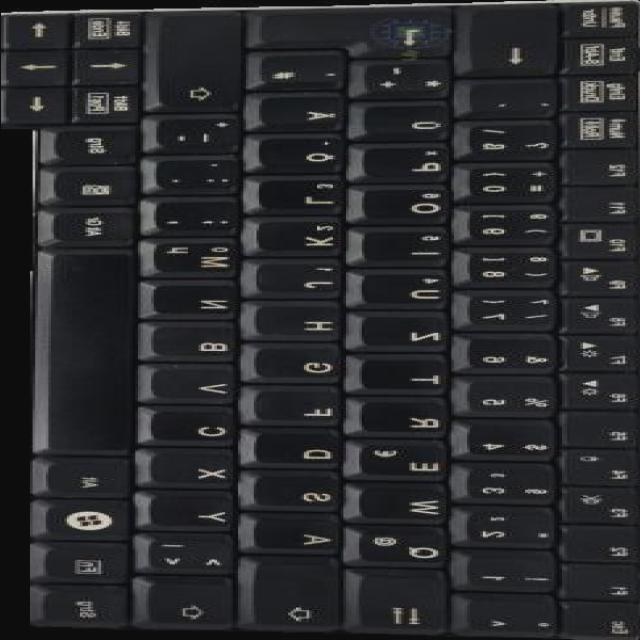0: (459, 167, 567, 205)
1: (462, 554, 564, 592)
2: (458, 509, 564, 550)
3: (459, 465, 567, 506)
4: (462, 423, 564, 461)
5: (459, 380, 567, 421)
6: (459, 338, 567, 376)
7: (456, 293, 564, 333)
8: (458, 252, 564, 288)
9: (458, 208, 564, 246)
a: (253, 520, 348, 554)
accent: (464, 84, 566, 120)
ae: (258, 97, 350, 129)
alt-left: (42, 461, 140, 500)
altgr-right: (53, 212, 143, 248)
b: (150, 326, 245, 364)
c: (150, 410, 242, 448)
caret: (456, 596, 564, 638)
comma: (156, 203, 248, 236)
d: (256, 434, 348, 469)
del: (464, 6, 566, 78)
e: (354, 443, 456, 481)
enter: (248, 11, 456, 60)
f: (256, 392, 348, 427)
g: (256, 349, 351, 385)
h: (253, 306, 351, 344)
hash: (255, 56, 353, 88)
i: (361, 231, 456, 267)
j: (256, 264, 348, 300)
k: (256, 222, 348, 255)
keyboard: (6, 6, 640, 640)
l: (258, 181, 350, 215)
less: (143, 538, 243, 576)
m: (148, 242, 248, 280)
minus: (156, 120, 251, 152)
n: (153, 286, 245, 319)
o: (361, 189, 456, 227)
oe: (256, 139, 351, 174)
p: (364, 146, 459, 184)
plus: (361, 64, 459, 98)
point: (156, 160, 248, 193)
q: (353, 528, 453, 568)
r: (358, 402, 453, 437)
s: (253, 476, 345, 512)
shift-left: (143, 583, 243, 633)
shift-lock: (248, 562, 348, 634)
shift-right: (155, 14, 253, 113)
space: (50, 253, 142, 455)
ss: (461, 125, 567, 163)
strg-left: (39, 589, 137, 631)
strg-right: (45, 128, 140, 164)
t: (361, 360, 453, 394)
tab: (356, 576, 456, 637)
u: (358, 275, 456, 311)
ue: (361, 106, 459, 142)
v: (147, 367, 245, 405)
w: (358, 489, 456, 524)
x: (148, 454, 243, 489)
y: (148, 494, 243, 532)
z: (358, 317, 456, 352)
